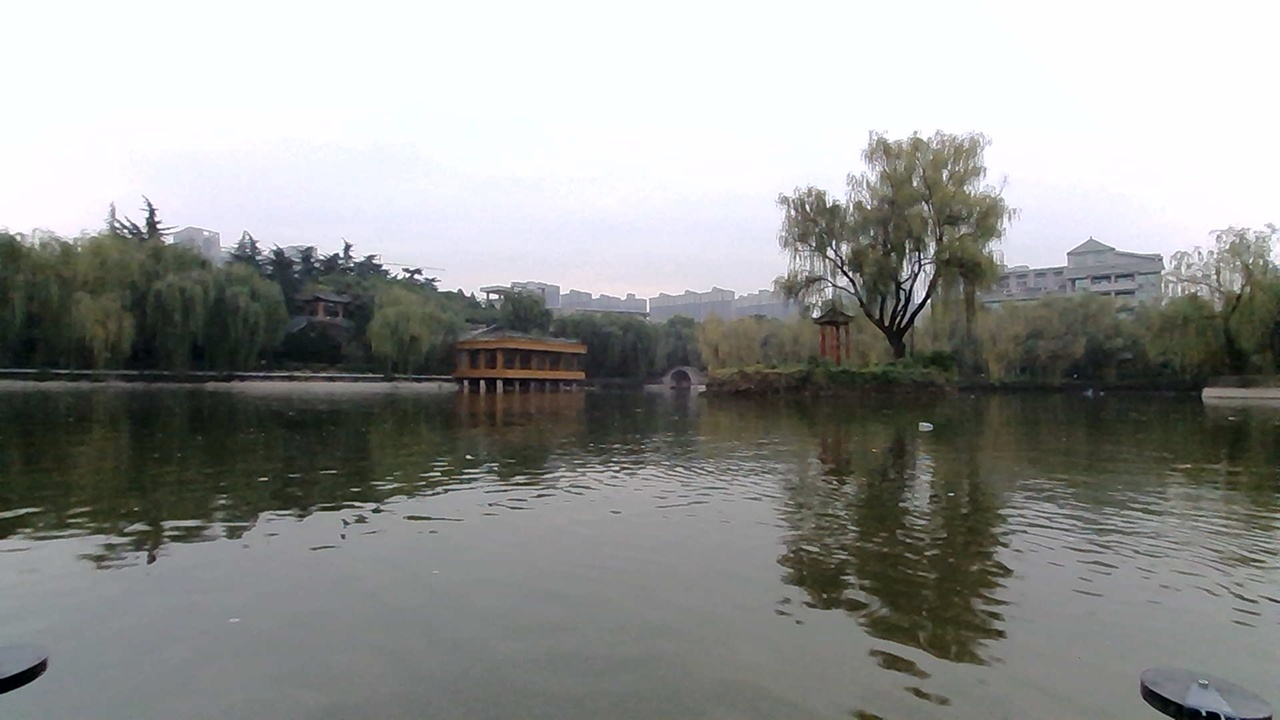bottle: (888, 402, 943, 434)
